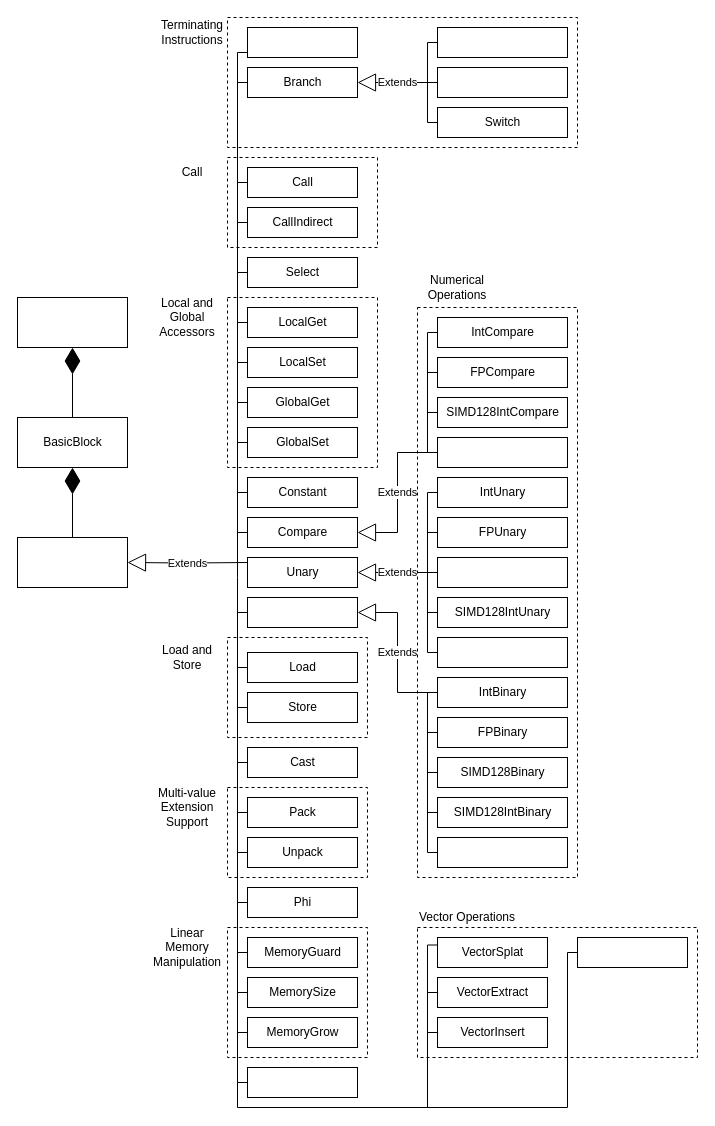
Image size: 715x1126. Some labels were removed from this diagram. Here are the shapes that lost their labels. From the top down, the centre of each, then its label:
At (x=302, y=42): "Unreachable".
At (x=502, y=42): "Unconditional".
At (x=502, y=82): "Conditional".
At (x=72, y=322): "Function".
At (x=502, y=452): "SIMD128FPCompare".
At (x=72, y=562): "Instruction".
At (x=502, y=572): "SIMD128Unary".
At (x=302, y=612): "Binary".
At (x=502, y=652): "SIMD128FPUnary".
At (x=502, y=852): "SIMD128FPBinary".
At (x=632, y=952): "VectorByteShuffle".
At (x=302, y=1082): "Intrinsic".
